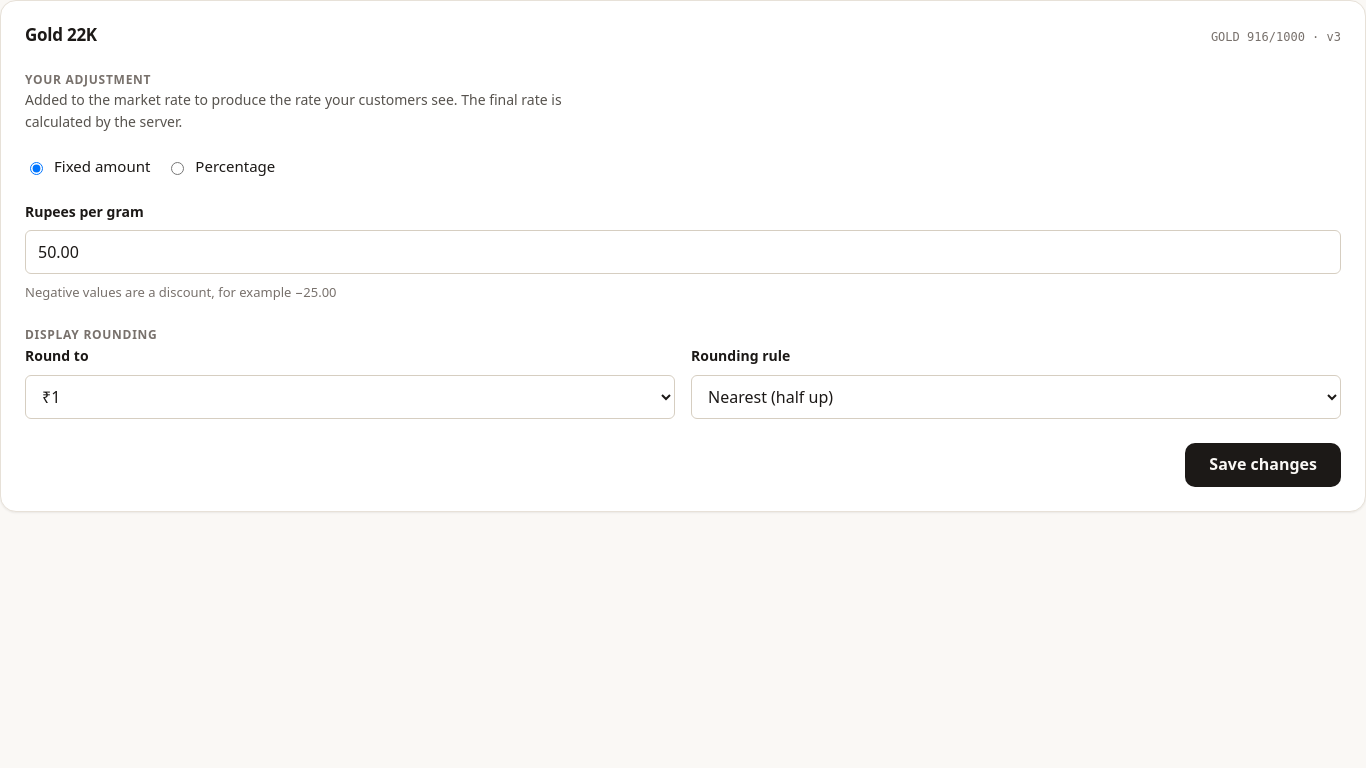
it: validation errors › Editor_generalError_isAnnouncedAsAnAlert
Click the button "Save changes" at x=1263, y=465, box [1185,443,1341,487]
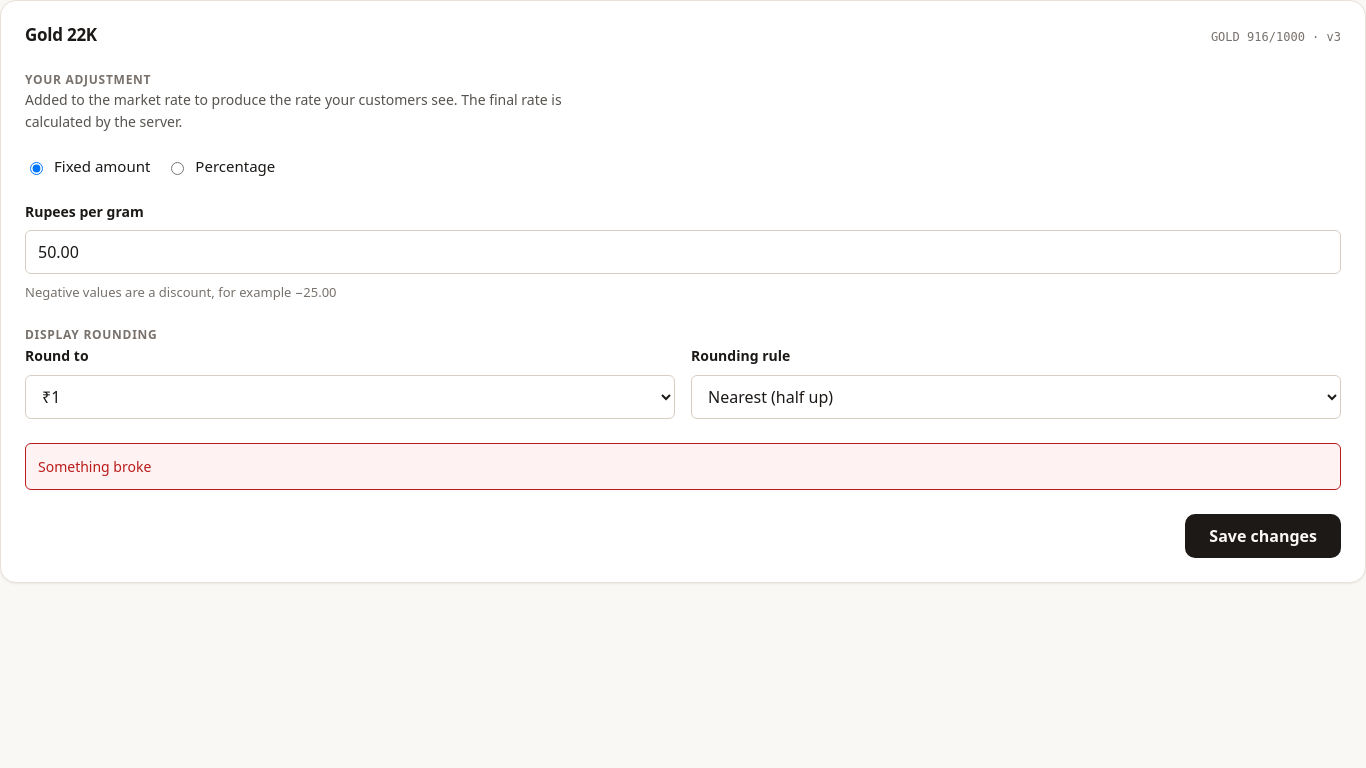
Check: the message reads "Something broke", box [38,457,151,476]
